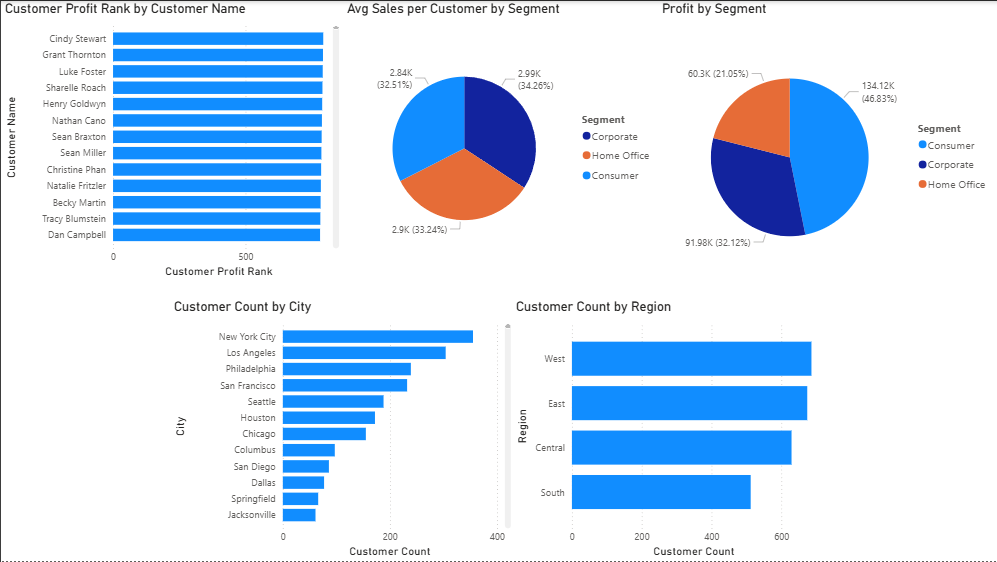

What the dashboard file says about the page in this screenshot:
{"tool":"powerbi","page":{"name":" Customer&Segment","canvas":[1280,720],"ordinal":1},"visuals":[{"type":"pieChart","fields":{"Category":["Orders_Clean.Segment"],"Y":["Dax_table.Avg Sales per Customer"]},"box":[439.5,0,408.7,359.8],"z":0},{"type":"pieChart","title":"Profit by Segment","fields":{"Category":["Orders_Clean.Segment"],"Y":["Dax_table.Profit by Segment"]},"box":[844.3,0,435.7,383],"z":1000},{"type":"barChart","fields":{"Y":["Dax_table.Customer Profit Rank"],"Category":["Orders_Clean.Customer Name"]},"box":[0,0,439.5,359.8],"z":2000},{"type":"barChart","fields":{"Y":["Dax_table.Customer Count"],"Category":["Orders_Clean.City"]},"box":[217.2,383,443.4,336.7],"z":3000},{"type":"barChart","fields":{"Y":["Dax_table.Customer Count"],"Category":["Orders_Clean.Region"]},"box":[656.7,383,406.1,336.7],"z":4000}]}

Visuals, with their boxes in screenshot pixels (x1, y1, x2, y2), scaled from the page's 1280x720 canvas onto the 997x562 screenshot:
pieChart - Orders_Clean.Segment x Dax_table.Avg Sales per Customer: [left=342, top=0, right=661, bottom=281]
"Profit by Segment" pieChart: [left=658, top=0, right=996, bottom=299]
barChart - Dax_table.Customer Profit Rank x Orders_Clean.Customer Name: [left=0, top=0, right=342, bottom=281]
barChart - Dax_table.Customer Count x Orders_Clean.City: [left=169, top=299, right=515, bottom=561]
barChart - Dax_table.Customer Count x Orders_Clean.Region: [left=512, top=299, right=828, bottom=561]
